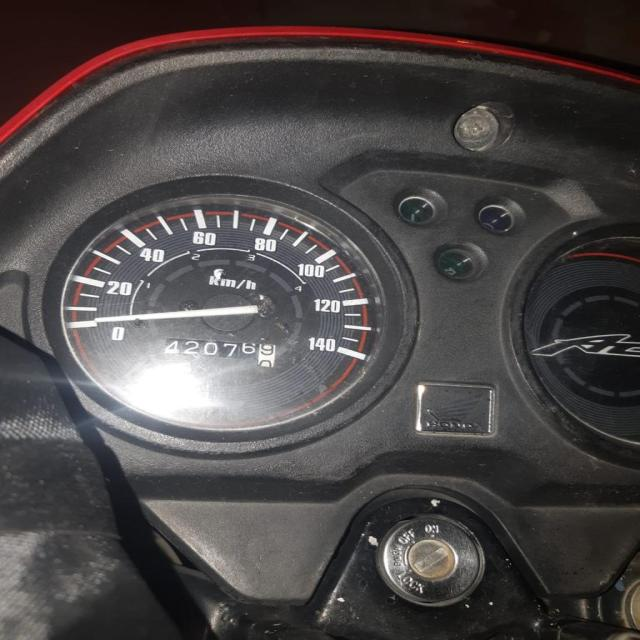odometer: (161, 335, 277, 368)
